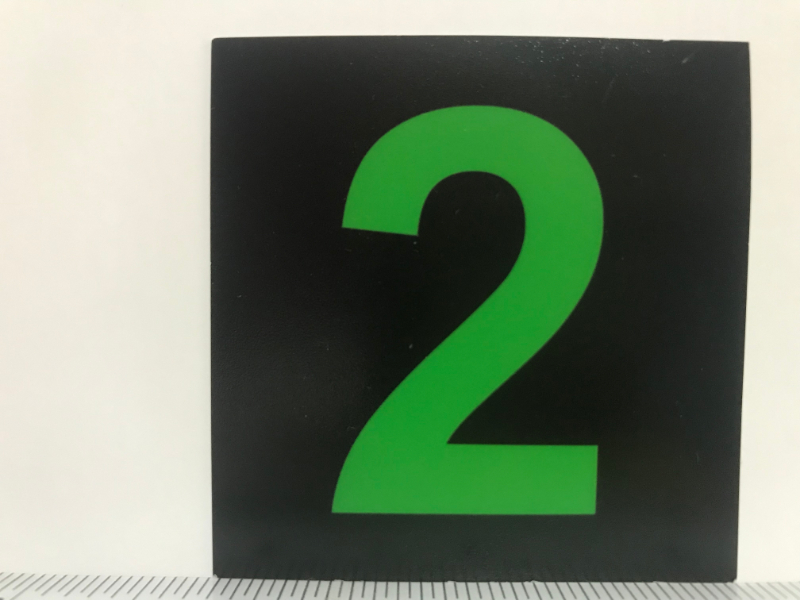Two-7: (218, 42, 732, 575)
